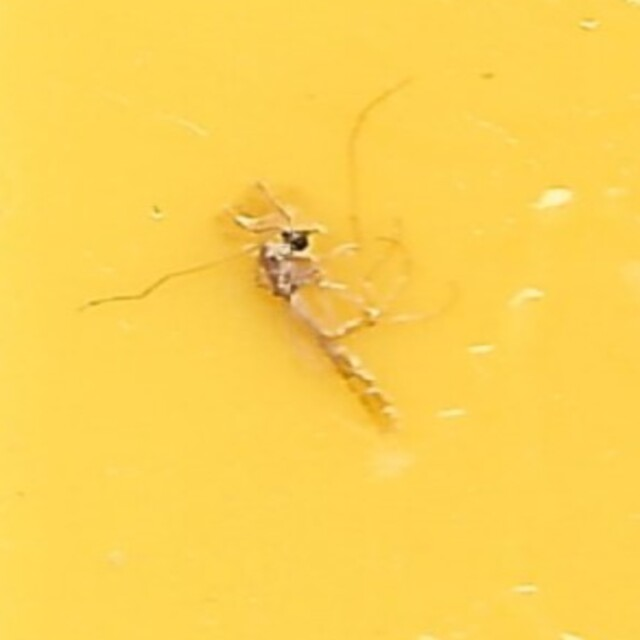Nematocera: (218, 174, 422, 466)
